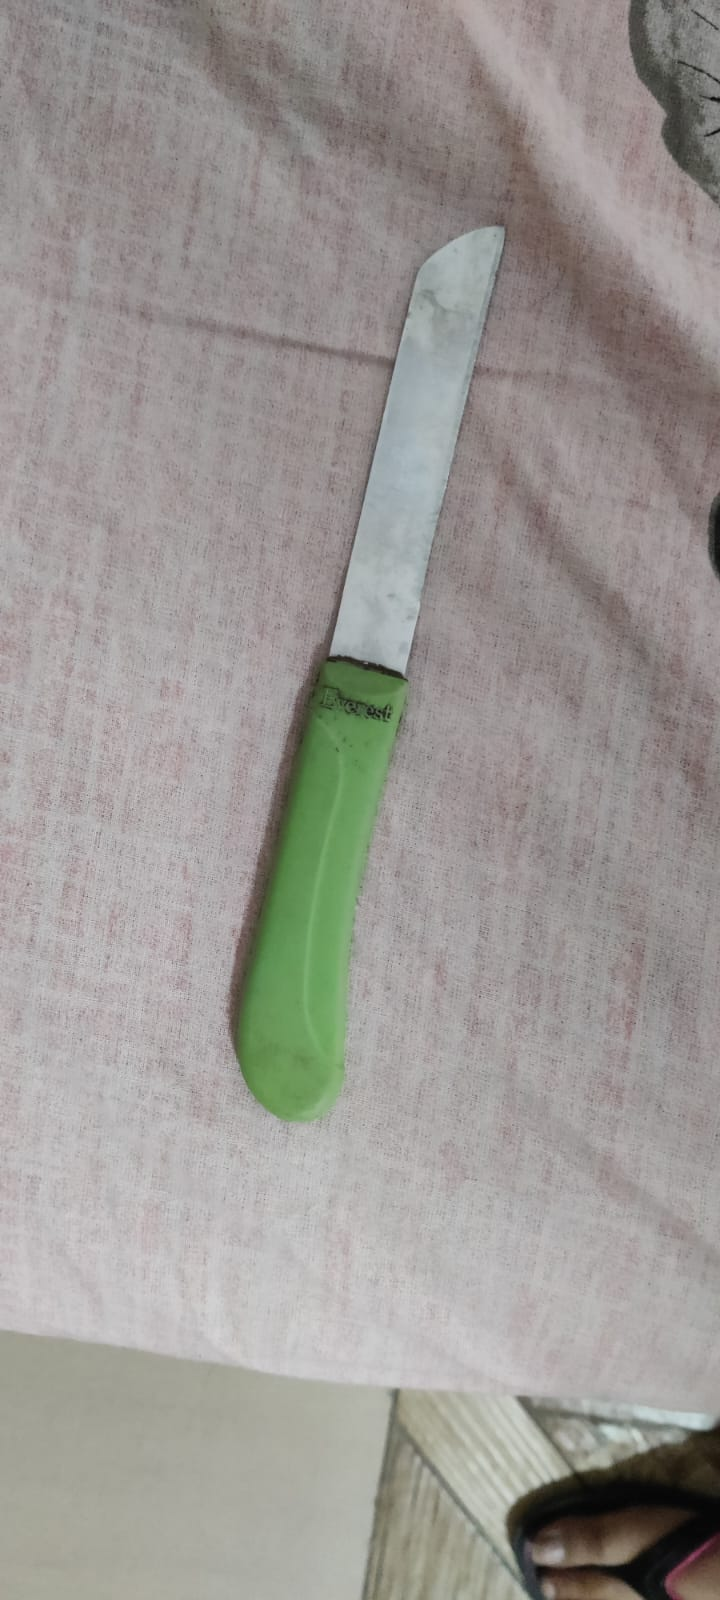knife: (213, 211, 513, 1133)
